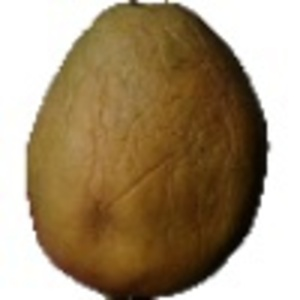mamão: (24, 2, 273, 298)
